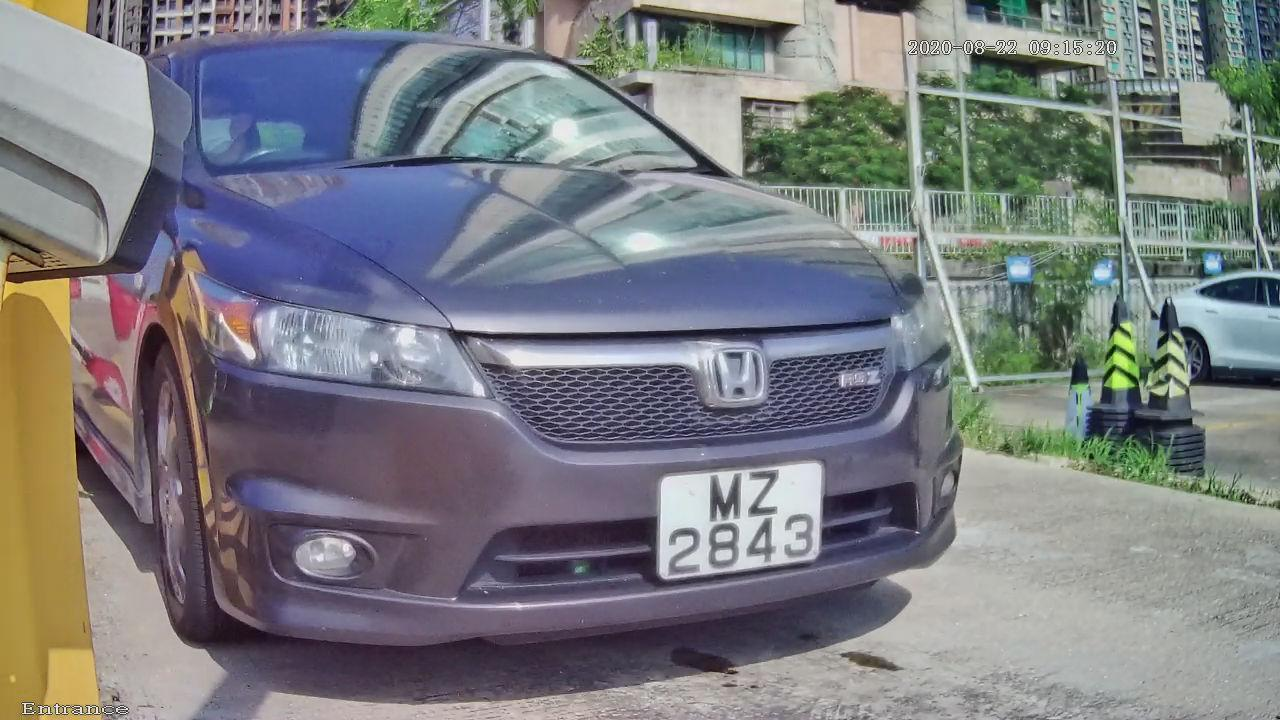Car: (63, 10, 1058, 704)
License Plate: (641, 447, 835, 595)
